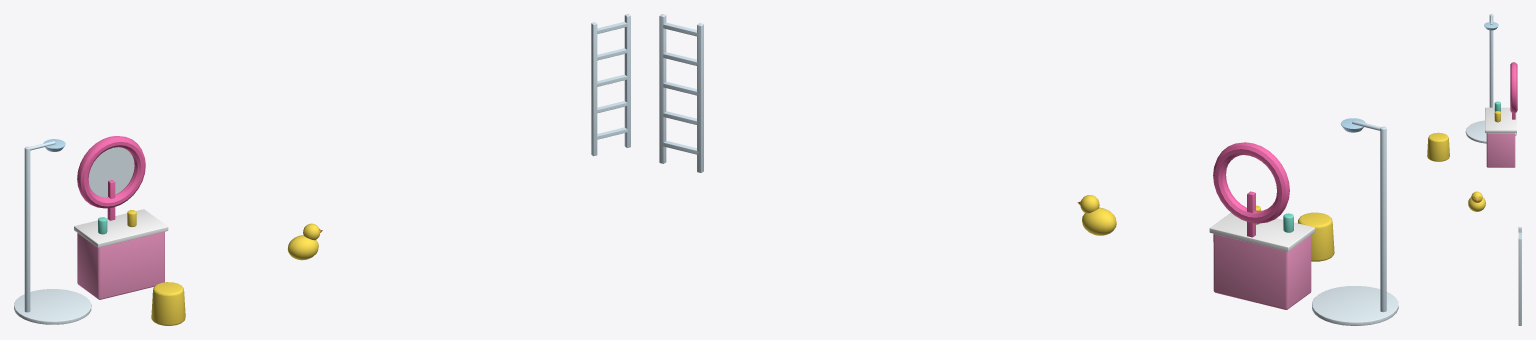
The model's file is decor-bath.glb.
3 views of the same model, side by side, from view 1: azimuth 30°, elevation 25°; view 2: azimuth 150°, elevation 25°; view 3: azimuth 270°, elevation 25° (orthographic). The views are drawn at different scales.
Visible parts, largest first — view 1: decor-item-vanity-mesh, decor-item-shower-mesh, decor-item-ladder-mesh, decor-item-stool-mesh, decor-item-rubber-duck-mesh; view 2: decor-item-vanity-mesh, decor-item-shower-mesh, decor-item-ladder-mesh, decor-item-stool-mesh, decor-item-rubber-duck-mesh; view 3: decor-item-vanity-mesh, decor-item-shower-mesh, decor-item-stool-mesh, decor-item-ladder-mesh, decor-item-rubber-duck-mesh.
Boxes of the visible parts, box(x1,y1,x2,y2) form: decor-item-vanity-mesh: box(74, 136, 168, 299); decor-item-shower-mesh: box(14, 139, 91, 324); decor-item-ladder-mesh: box(591, 14, 630, 156); decor-item-stool-mesh: box(151, 282, 185, 325); decor-item-rubber-duck-mesh: box(287, 223, 322, 260); decor-item-vanity-mesh: box(1209, 142, 1315, 309); decor-item-shower-mesh: box(1312, 118, 1398, 325); decor-item-ladder-mesh: box(659, 14, 703, 172); decor-item-stool-mesh: box(1298, 212, 1334, 261); decor-item-rubber-duck-mesh: box(1077, 195, 1116, 235); decor-item-vanity-mesh: box(1485, 62, 1517, 167); decor-item-shower-mesh: box(1465, 14, 1516, 143); decor-item-stool-mesh: box(1427, 132, 1449, 161); decor-item-ladder-mesh: box(1518, 227, 1521, 325); decor-item-rubber-duck-mesh: box(1468, 191, 1485, 211).
Size of the model in its own units: 13.55 by 3.43 by 2.66.
